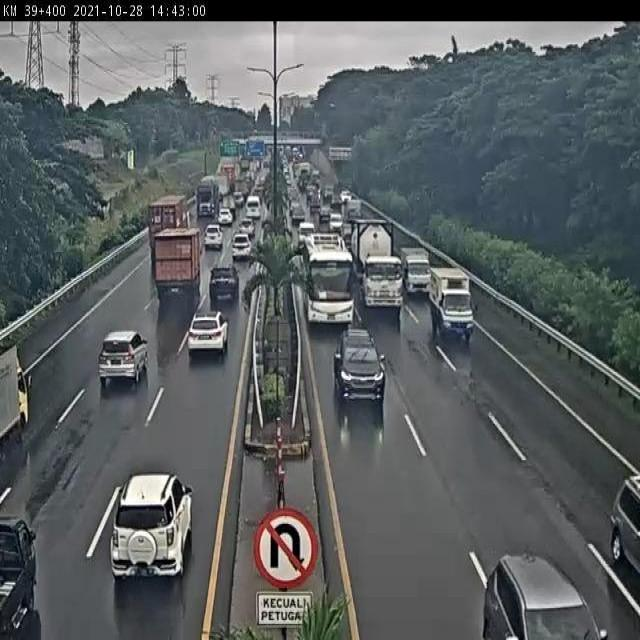big truck: (163, 223, 209, 289), (152, 194, 196, 262)
bus-l-: (305, 233, 355, 327)
car: (110, 476, 193, 579), (334, 327, 386, 405), (97, 329, 150, 388), (187, 310, 229, 358), (214, 254, 243, 290), (206, 220, 224, 248), (232, 229, 253, 252)
truck-s-: (430, 265, 477, 343), (400, 247, 433, 300)
truck-xl-: (351, 219, 405, 313)
